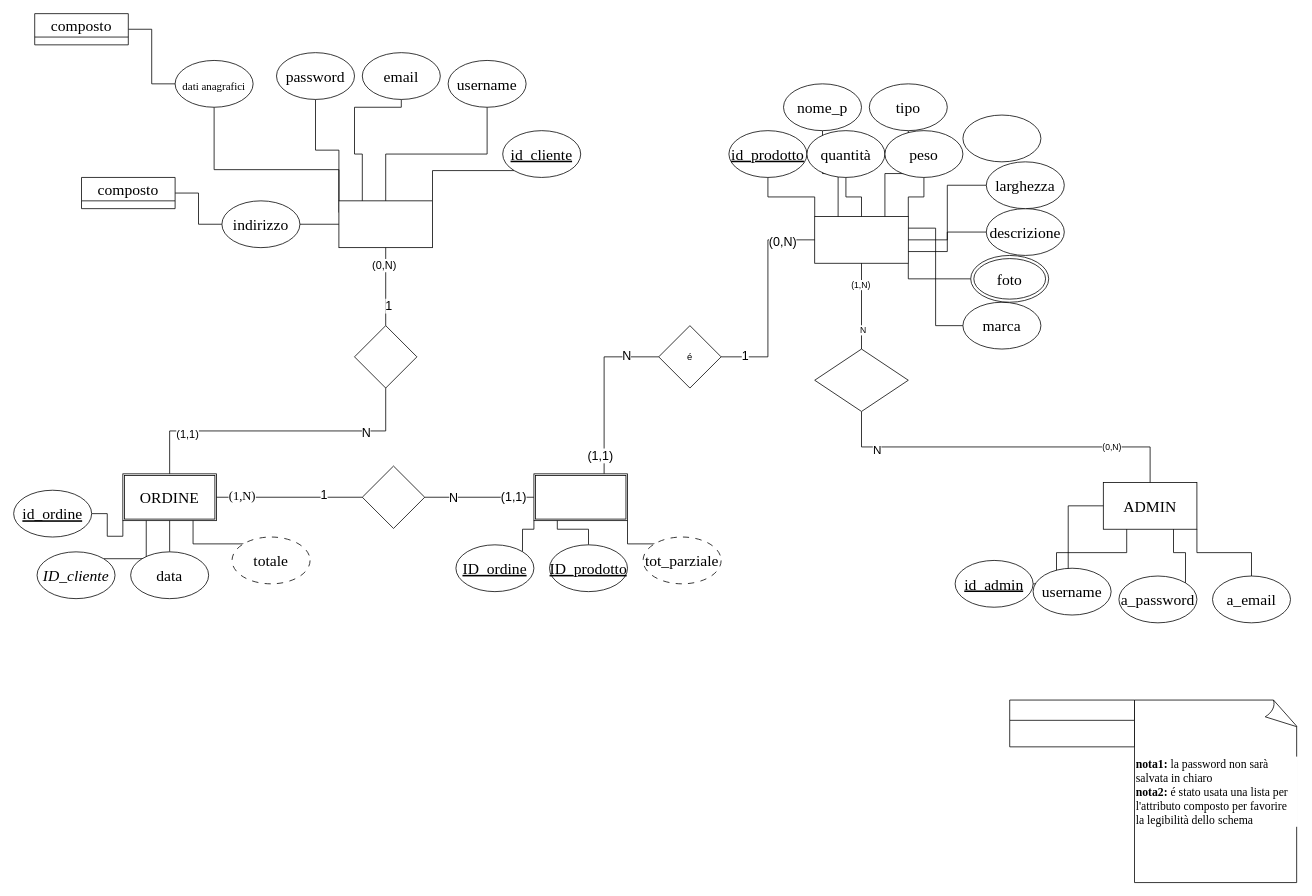
Image size: 1312x896. Some labels were removed from this diagram. Here are the shapes that lost their labels. From the top down, the centre of each, then its label:
At (x=1001, y=138): "diametro".
At (x=385, y=224): "CLIENTE".
At (x=861, y=239): "PRODOTTO".
At (x=385, y=356): "fa".
At (x=861, y=379): "modifica".
At (x=393, y=496): "contiene".
At (x=580, y=497): "ELEMENTI".
At (x=1072, y=723): "vincolo non esprimibile".
